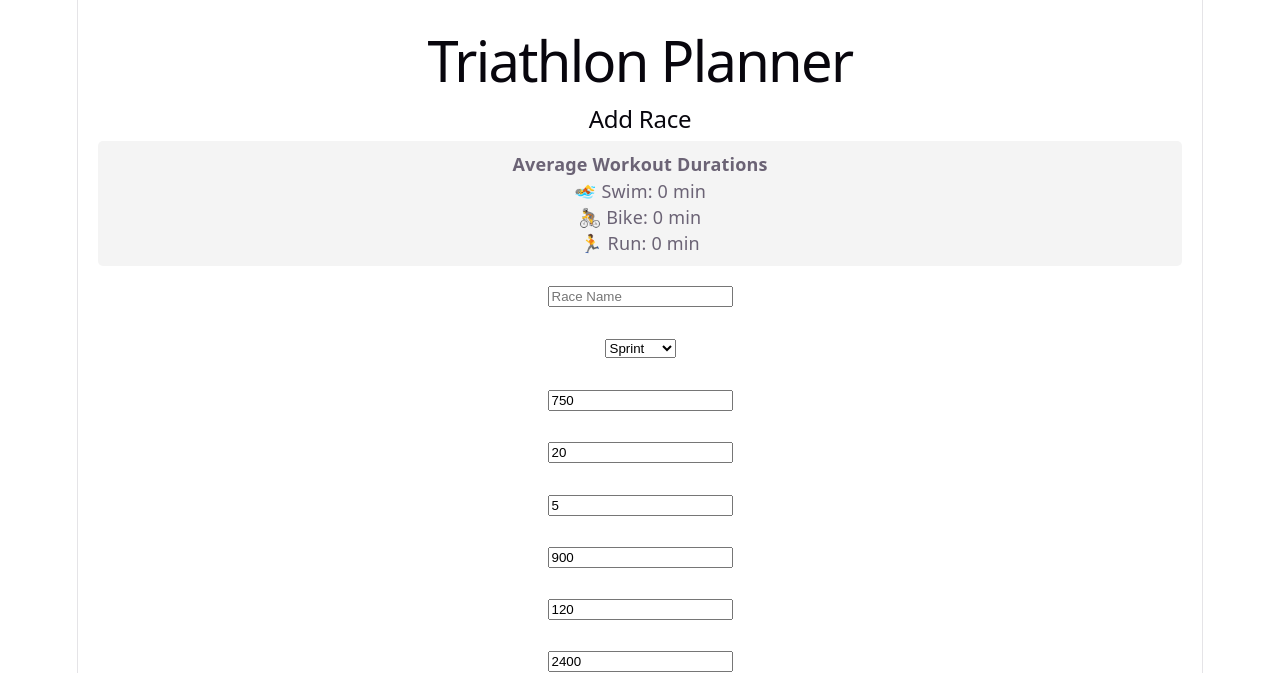
App Integration › adds a race to the saved races list
Type "Sprint Race" into the field with placeholder "Race Name" at (640, 296), box [548,286,732,307]
(page scrolled)
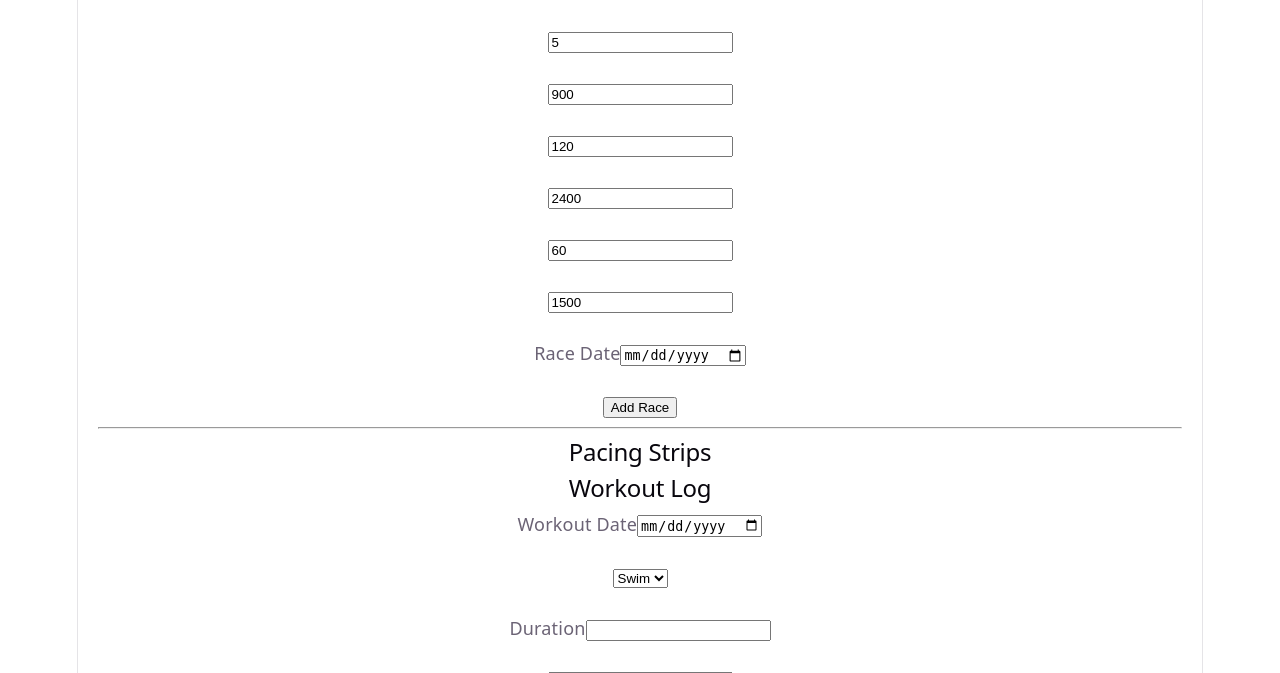
Type "2026-08-01" into the date field labelled "Race Date" at (683, 355), box [620,344,746,366]
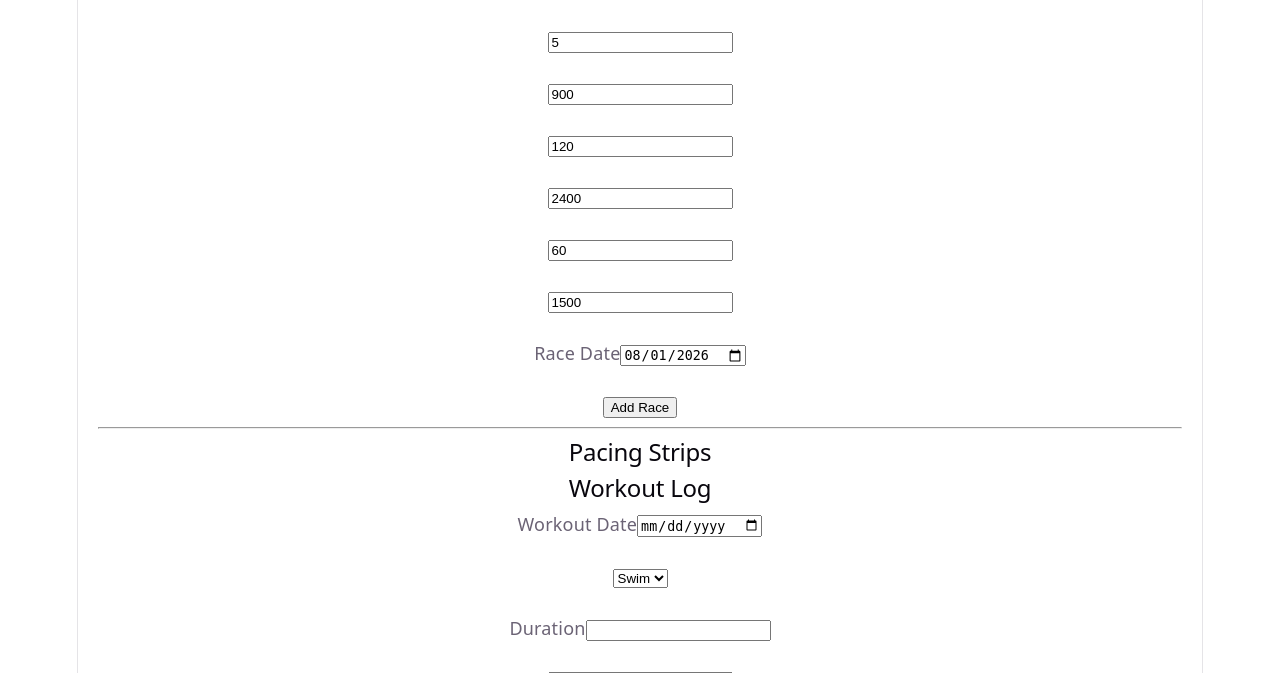
Click the button "Add Race" at (640, 407), box [603,397,677,418]
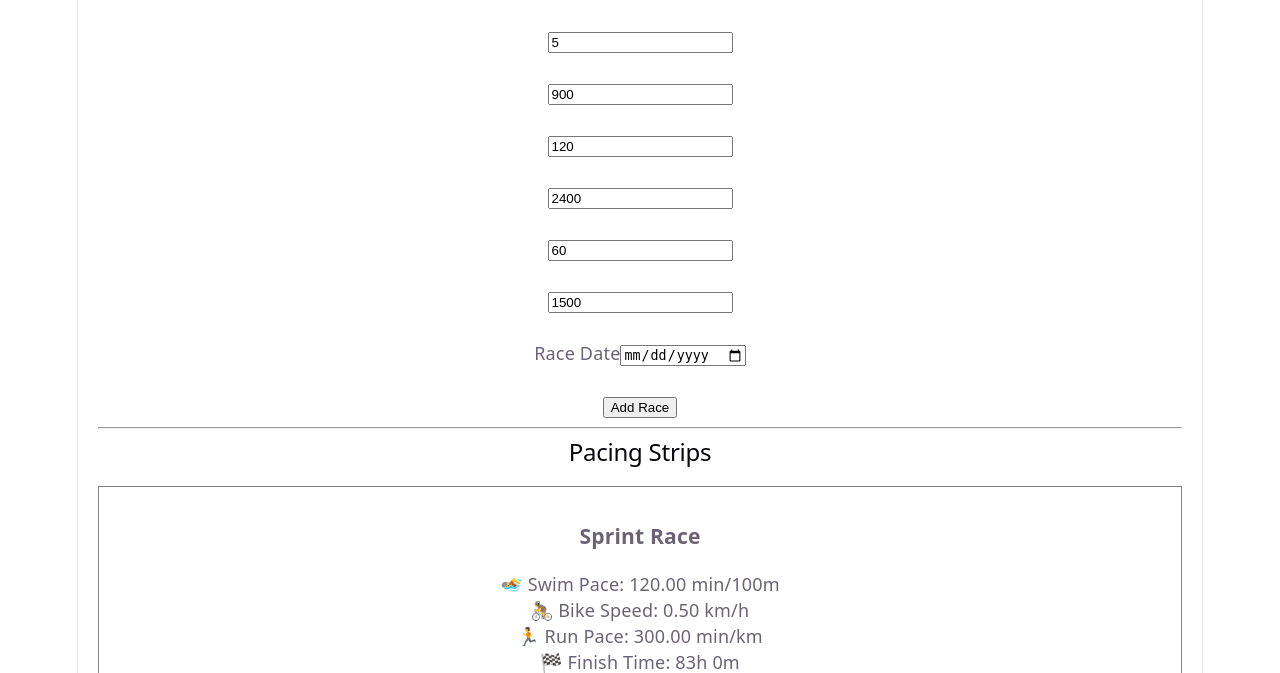
Now the number of headings "Sprint Race" is 2
